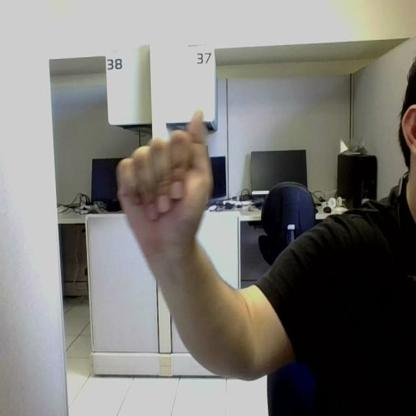A: (117, 112, 212, 240)
